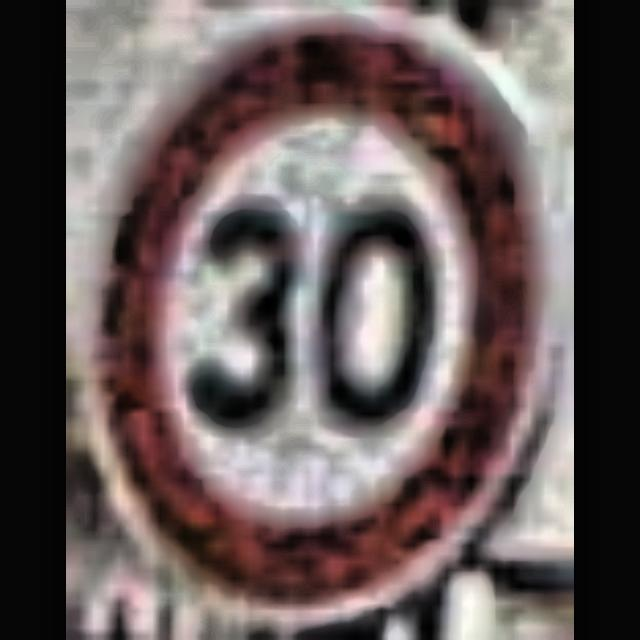speed_30: (105, 18, 547, 616)
